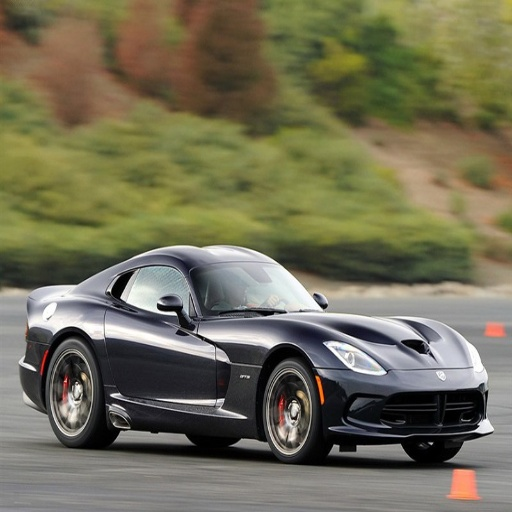front_bumper: (316, 366, 484, 439), (103, 359, 149, 419)
front_glass: (213, 260, 323, 314)
front_right_door: (173, 296, 218, 407)
front_right_light: (325, 339, 381, 374)
